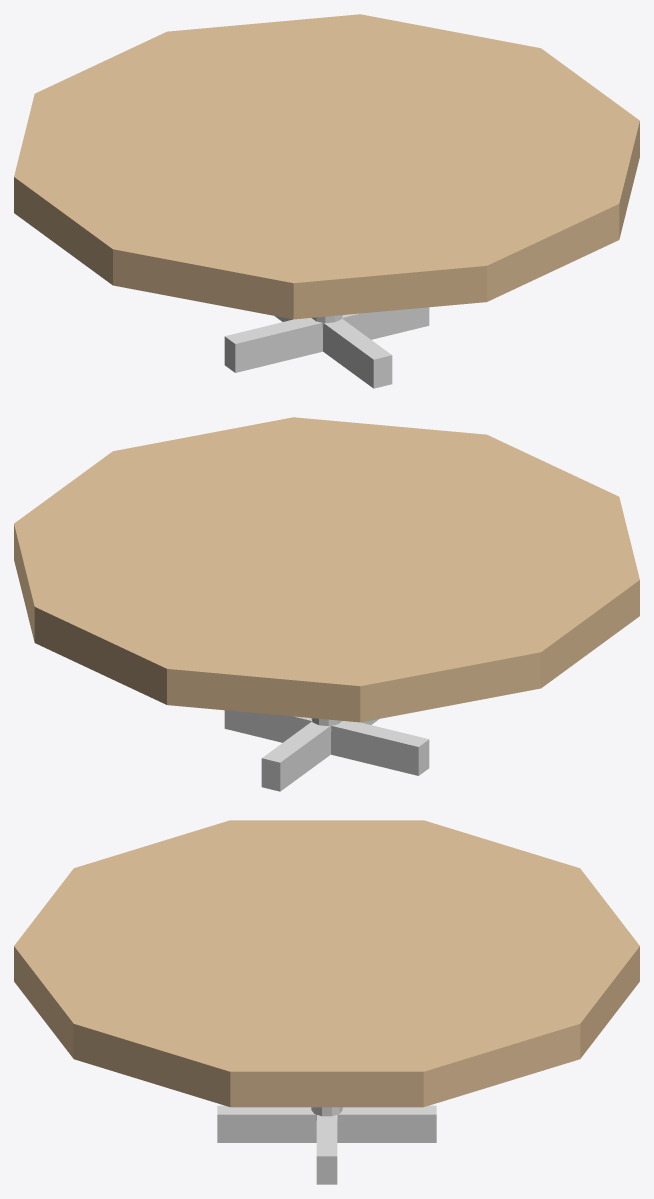
The model's file is Table 1 pied.glb.
The picture shows the model from 3 angles, top to bottom: view 1: azimuth 30°, elevation 25°; view 2: azimuth 150°, elevation 25°; view 3: azimuth 270°, elevation 25°; orthographic projection. The views are drawn at different scales.
Visible parts, largest first — view 1: Cylinder, Cube; view 2: Cylinder, Cube; view 3: Cylinder, Cube.
Boxes of the visible parts, x1=… form: Cylinder: x1=14, y1=14, x2=639, y2=319; Cube: x1=224, y1=307, x2=429, y2=388; Cylinder: x1=14, y1=417, x2=639, y2=722; Cube: x1=224, y1=710, x2=429, y2=791; Cylinder: x1=14, y1=820, x2=639, y2=1107; Cube: x1=217, y1=1105, x2=436, y2=1184.
Size of the model in its own units: 2.1 by 0.7483 by 2.21.
